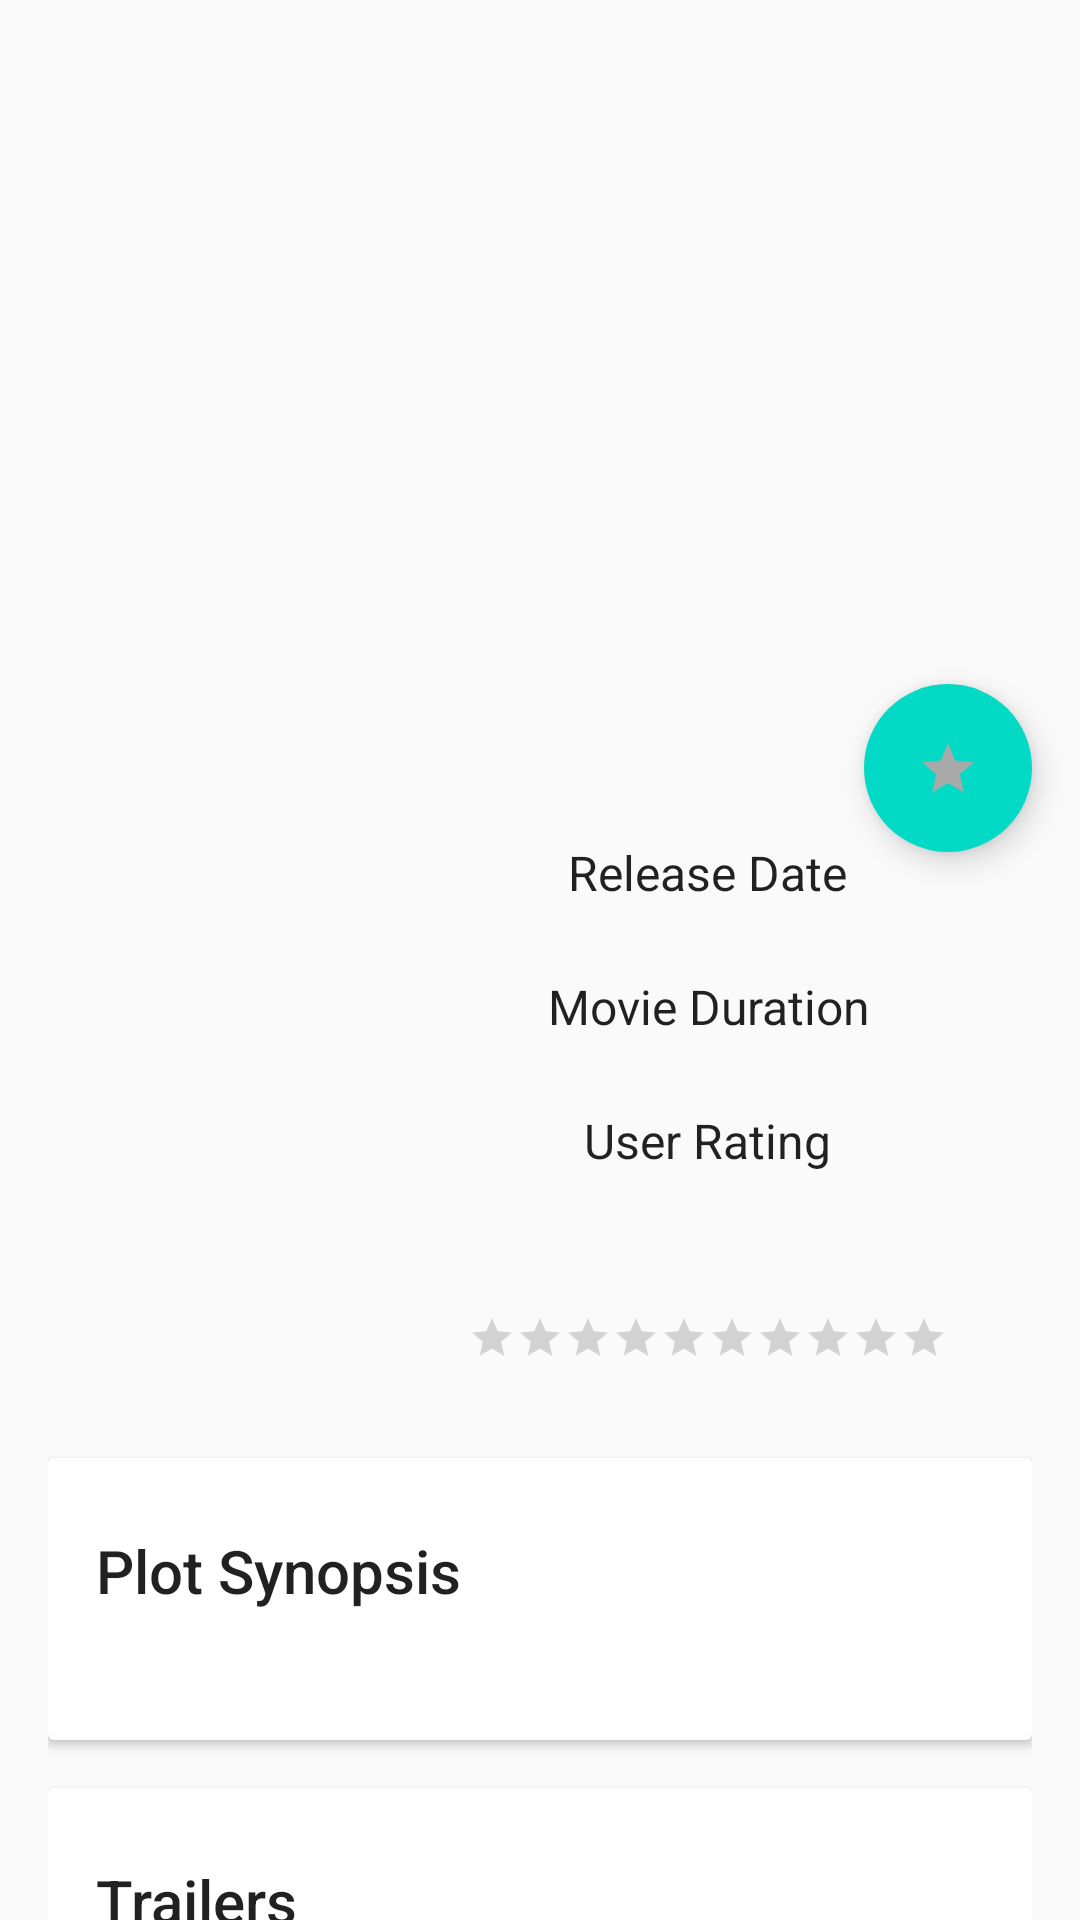

Screen size 1080*1920. Icon name, then its box in pixels as bbox(x1, y1, x2, y2):
fav: bbox(864, 684, 1032, 852)
